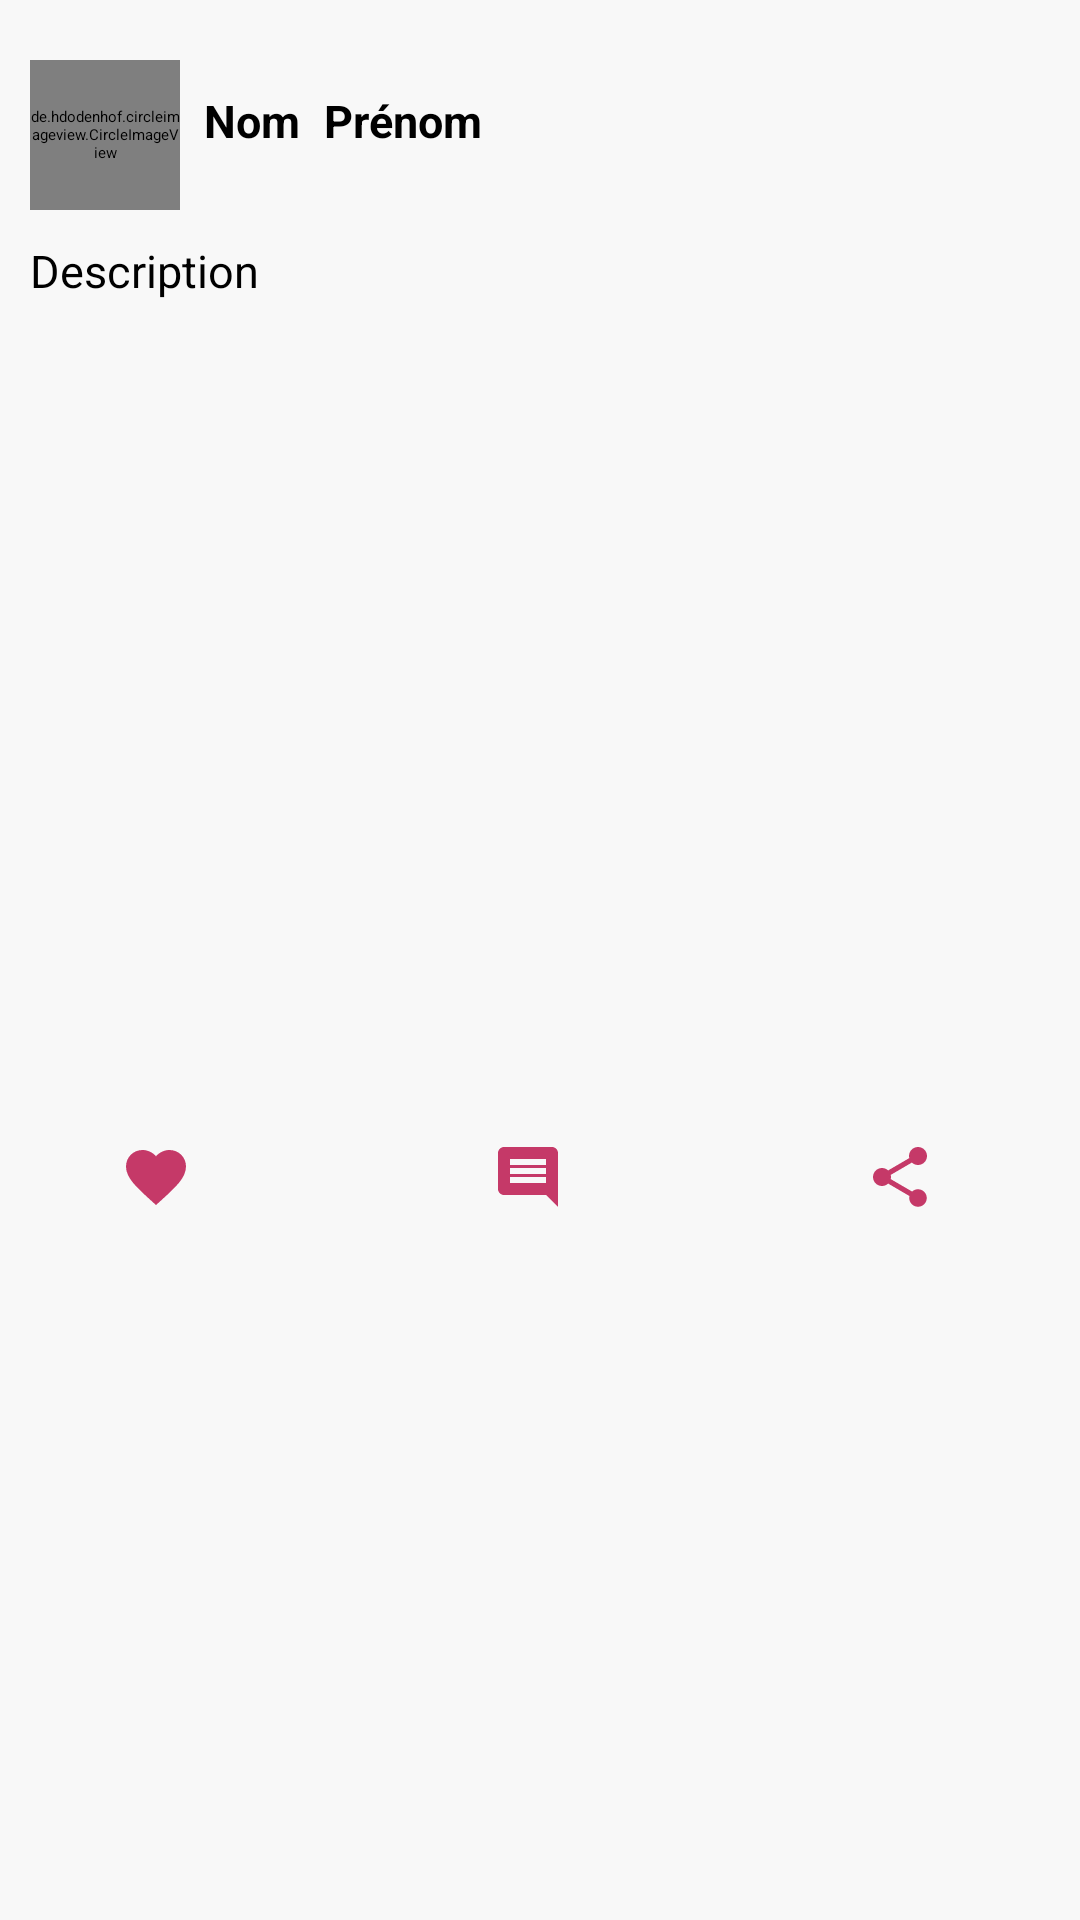

Screen size 1080w x 1920h. Icon name, then its box in pixels as (x1, y1, x2, y2):
comment: (498, 1147, 558, 1207)
favorite: (126, 1150, 186, 1205)
share: (873, 1147, 927, 1207)
